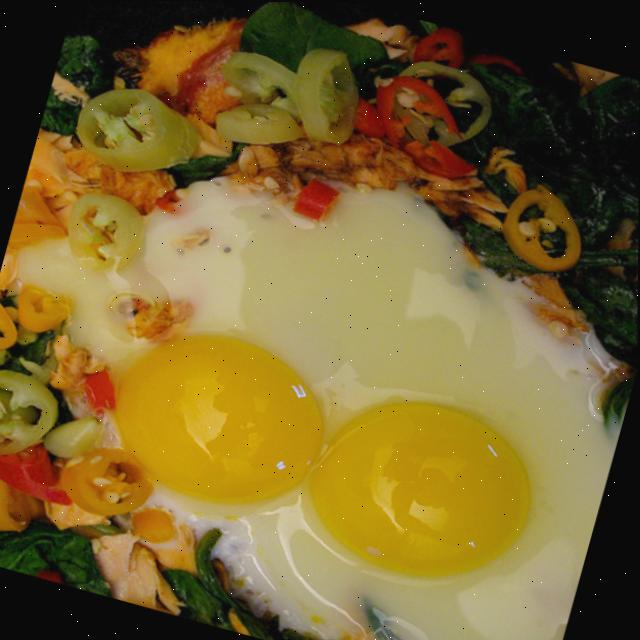鸡蛋料理: (42, 91, 639, 640)
